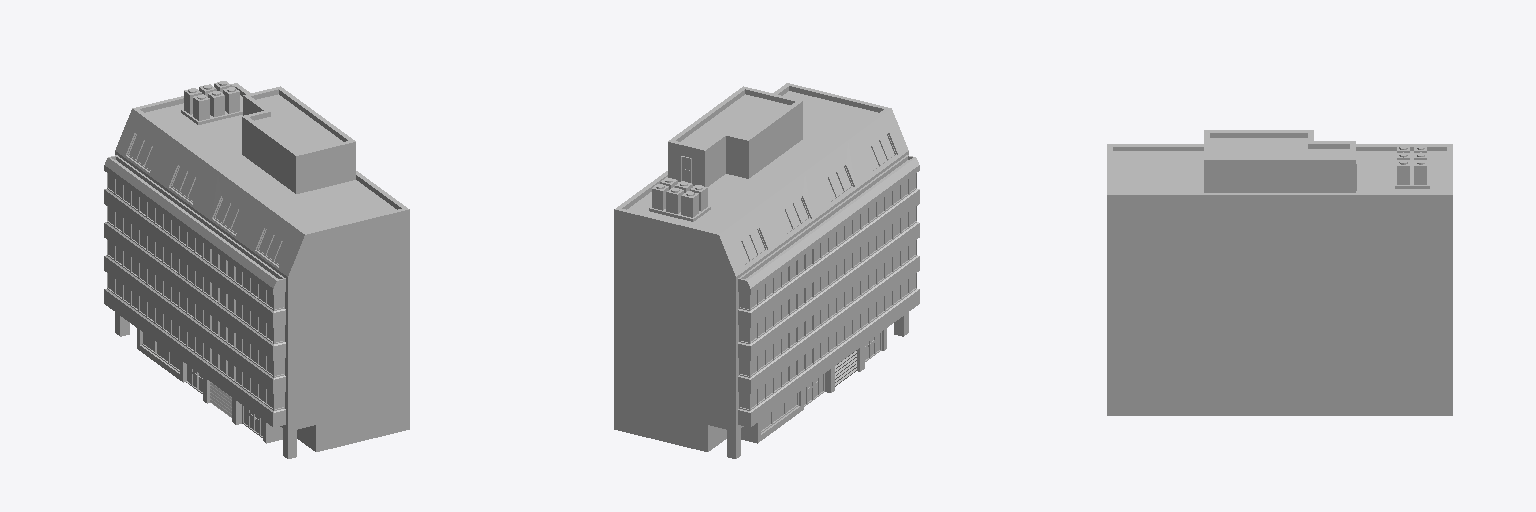
The model's file is HouseShortWide.obj.
3 renders of one model, left to right at view 1: azimuth 30°, elevation 25°; view 2: azimuth 150°, elevation 25°; view 3: azimuth 270°, elevation 25°, orthographic.
Visible parts, largest first — view 1: Box001.001; view 2: Box001.001; view 3: Box001.001.
Boxes of the visible parts, <box> form: Box001.001: <box>104,81,409,458</box>; Box001.001: <box>614,83,919,458</box>; Box001.001: <box>1107,130,1452,415</box>.
Size of the model in its own units: 2.82 by 5.1 by 6.3.